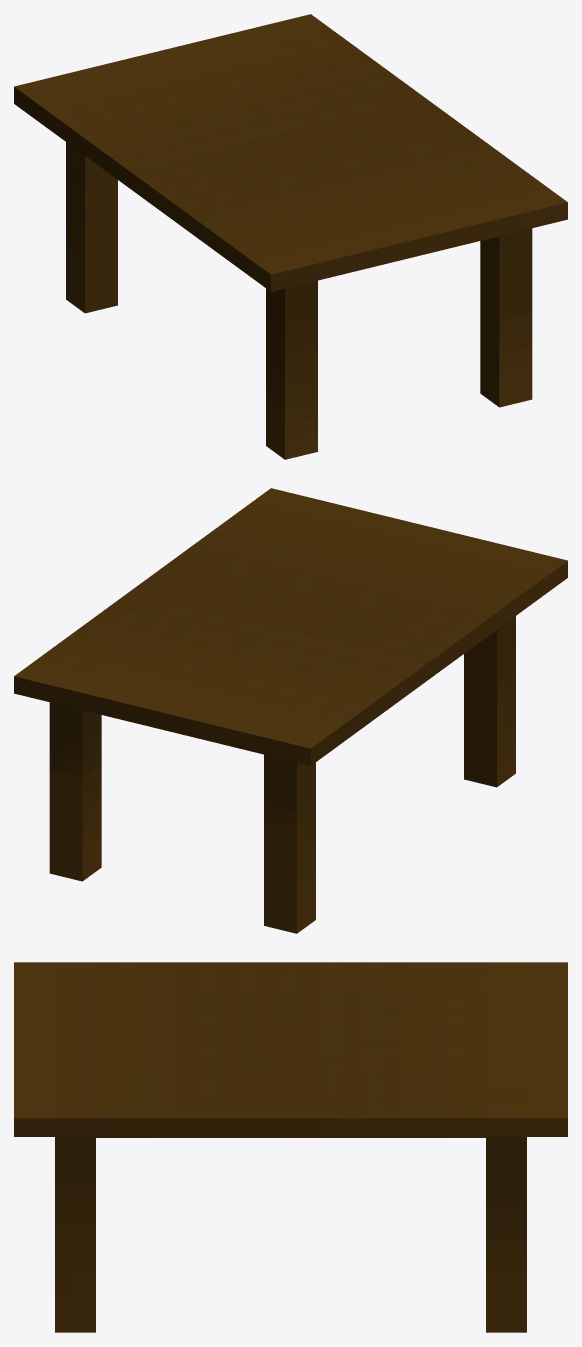
The model's file is stolik.gltf.
3 views of the same model, one above another, from view 1: azimuth 30°, elevation 25°; view 2: azimuth 150°, elevation 25°; view 3: azimuth 270°, elevation 25° (orthographic). The views are drawn at different scales.
Visible parts, largest first — view 1: blat, noga (×3); view 2: blat, noga (×3); view 3: blat, noga (×2).
Part boxes in pixels (x1,y1,x2,y2): blat: (14,14,567,291); noga (×3): (66,142,532,459); blat: (14,488,567,765); noga (×3): (49,616,515,933); blat: (14,962,567,1136); noga (×2): (55,1137,526,1332).
Bounding box in the file's own units: 1.12 × 0.75 × 1.69.
1 material, 1 textured.
